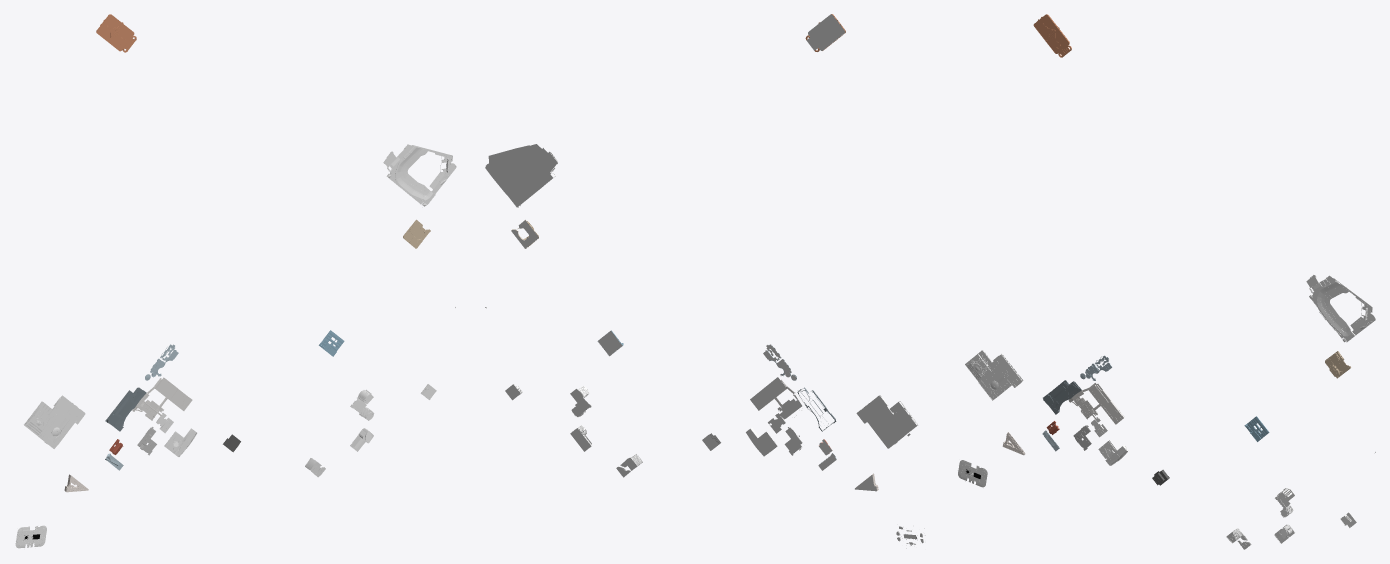
3 views of the same model, side by side, from view 1: azimuth 30°, elevation 25°; view 2: azimuth 150°, elevation 25°; view 3: azimuth 330°, elevation 25° (orthographic). The views are drawn at different scales.
Size of the model in its own units: 7648 by 8546 by 185.
